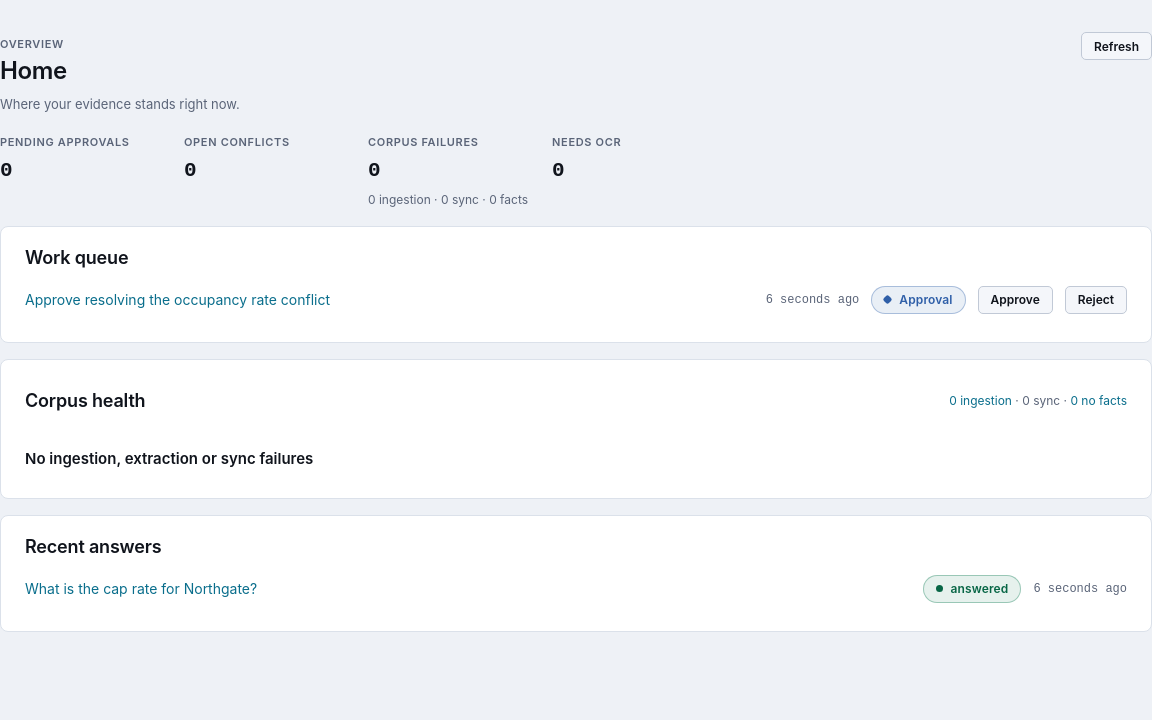
Test: HomePage › moves focus to the section heading after an inline decision removes the row
Expected: the list item "Approve resolving the occupancy rate conflict" is shown, [25,289,330,311]
Click the button with aria-label "Approve, Approve resolving the occupancy rate conflict".
click(1015, 300)  # box [978,286,1053,314]
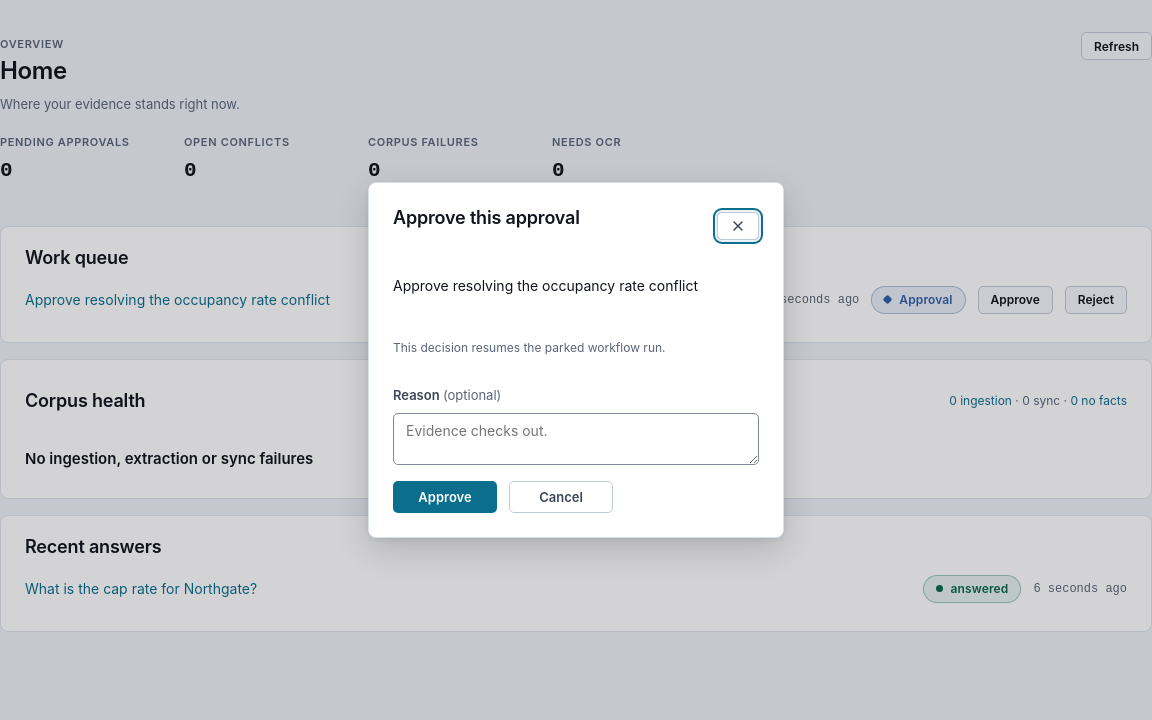
Click the button "Approve".
click(445, 498)  # box [393,482,497,514]
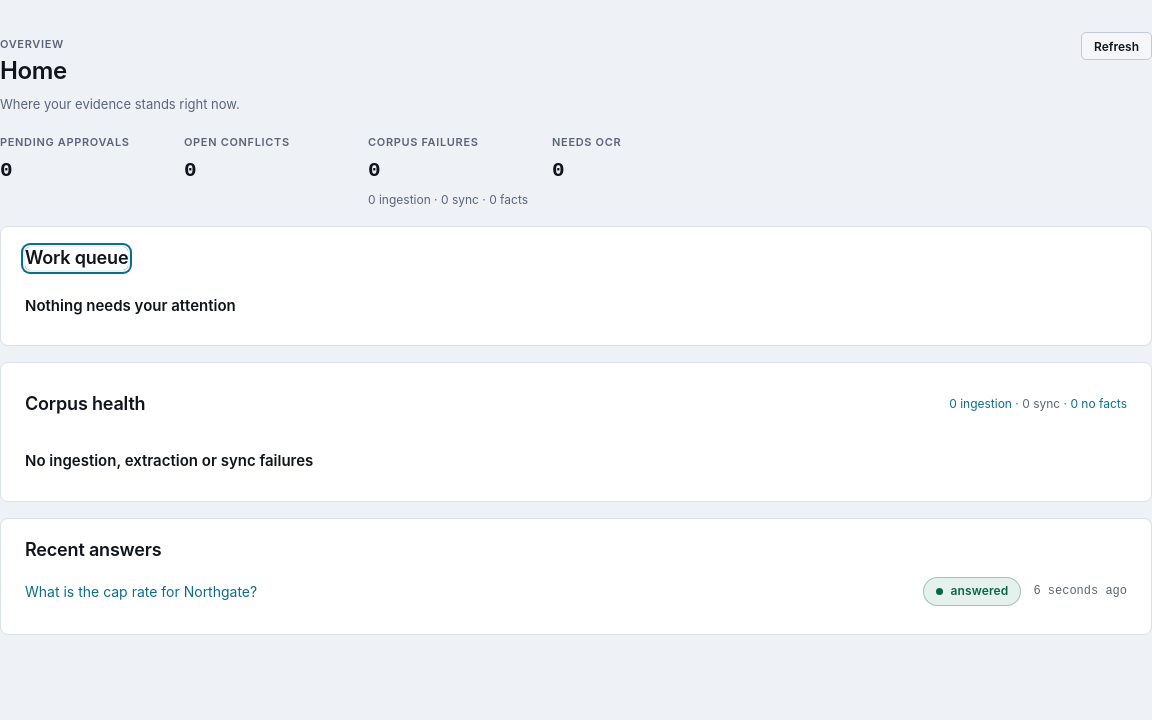
Result: the link "Approve resolving the occupancy rate conflict" is gone
